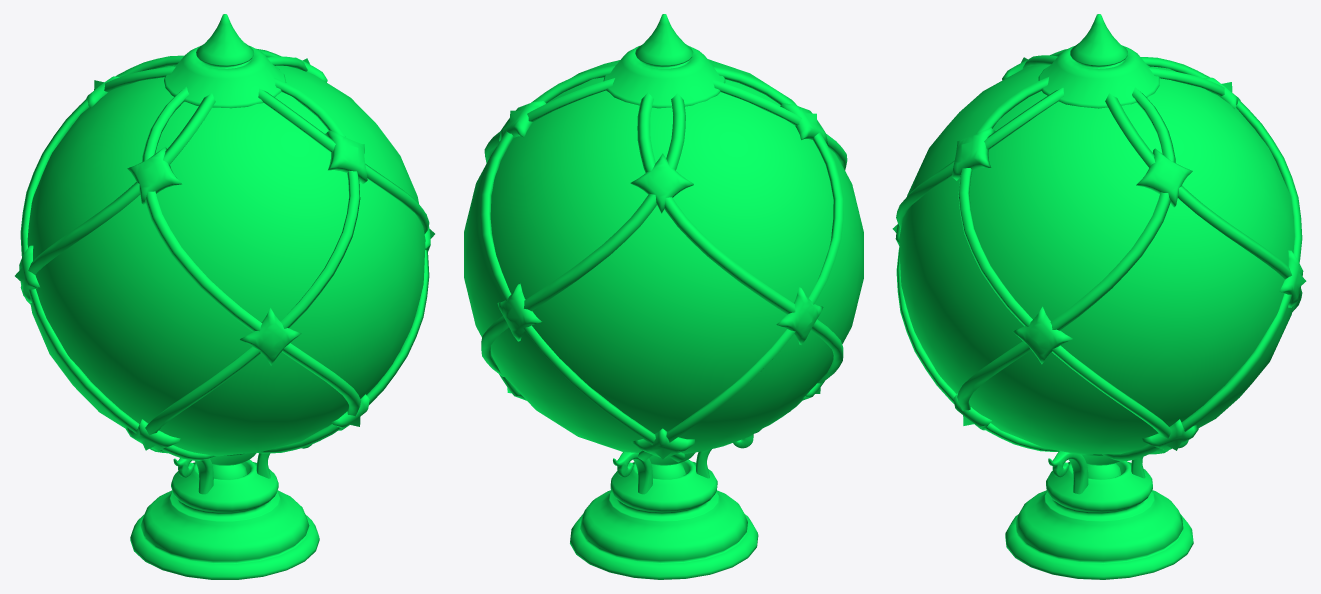
File: Sphere_Flask.FBX
3 renders of one model, left to right at view 1: azimuth 30°, elevation 25°; view 2: azimuth 150°, elevation 25°; view 3: azimuth 270°, elevation 25°, orthographic.
Visible parts, largest first — view 1: Sphere_Flask_Glass, Sphere_Flask, Sphere_Flask_Base; view 2: Sphere_Flask_Glass, Sphere_Flask, Sphere_Flask_Base; view 3: Sphere_Flask_Glass, Sphere_Flask, Sphere_Flask_Base.
Part boxes in pixels (left/top/right/bottom): Sphere_Flask_Glass: left=27, top=65, right=425, bottom=456; Sphere_Flask: left=15, top=14, right=434, bottom=479; Sphere_Flask_Base: left=130, top=444, right=319, bottom=579; Sphere_Flask_Glass: left=464, top=59, right=863, bottom=453; Sphere_Flask: left=480, top=14, right=847, bottom=479; Sphere_Flask_Base: left=570, top=429, right=761, bottom=579; Sphere_Flask_Glass: left=899, top=64, right=1294, bottom=454; Sphere_Flask: left=892, top=14, right=1306, bottom=479; Sphere_Flask_Base: left=1005, top=440, right=1193, bottom=579.
Bounding box in the file's own units: 29.86 × 41.96 × 29.86.
